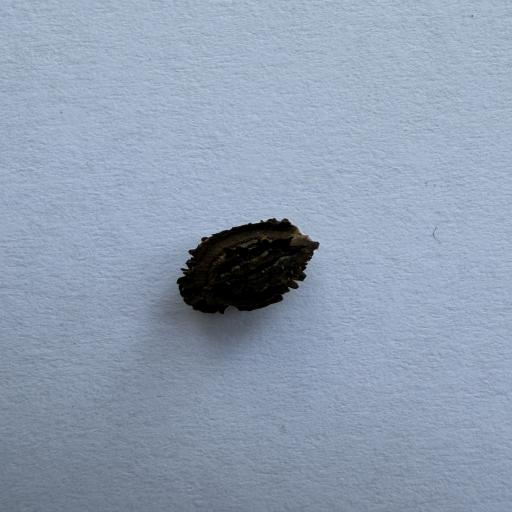papaya_seed: (171, 186, 321, 330)
